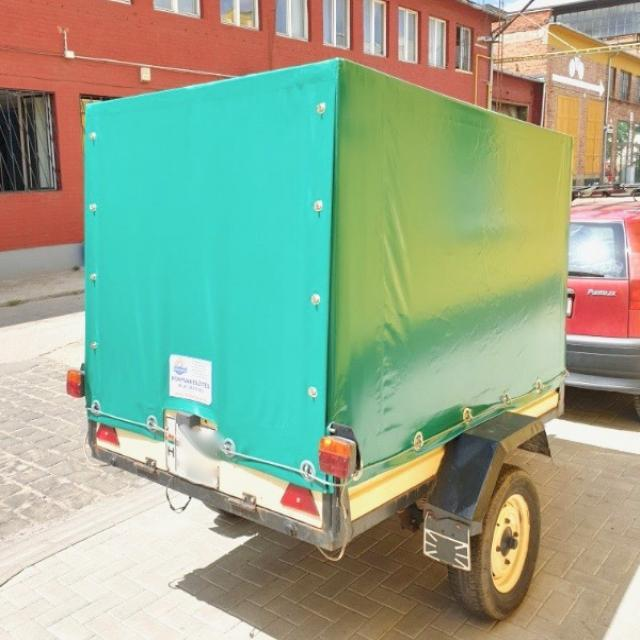trailer: (85, 56, 577, 551)
